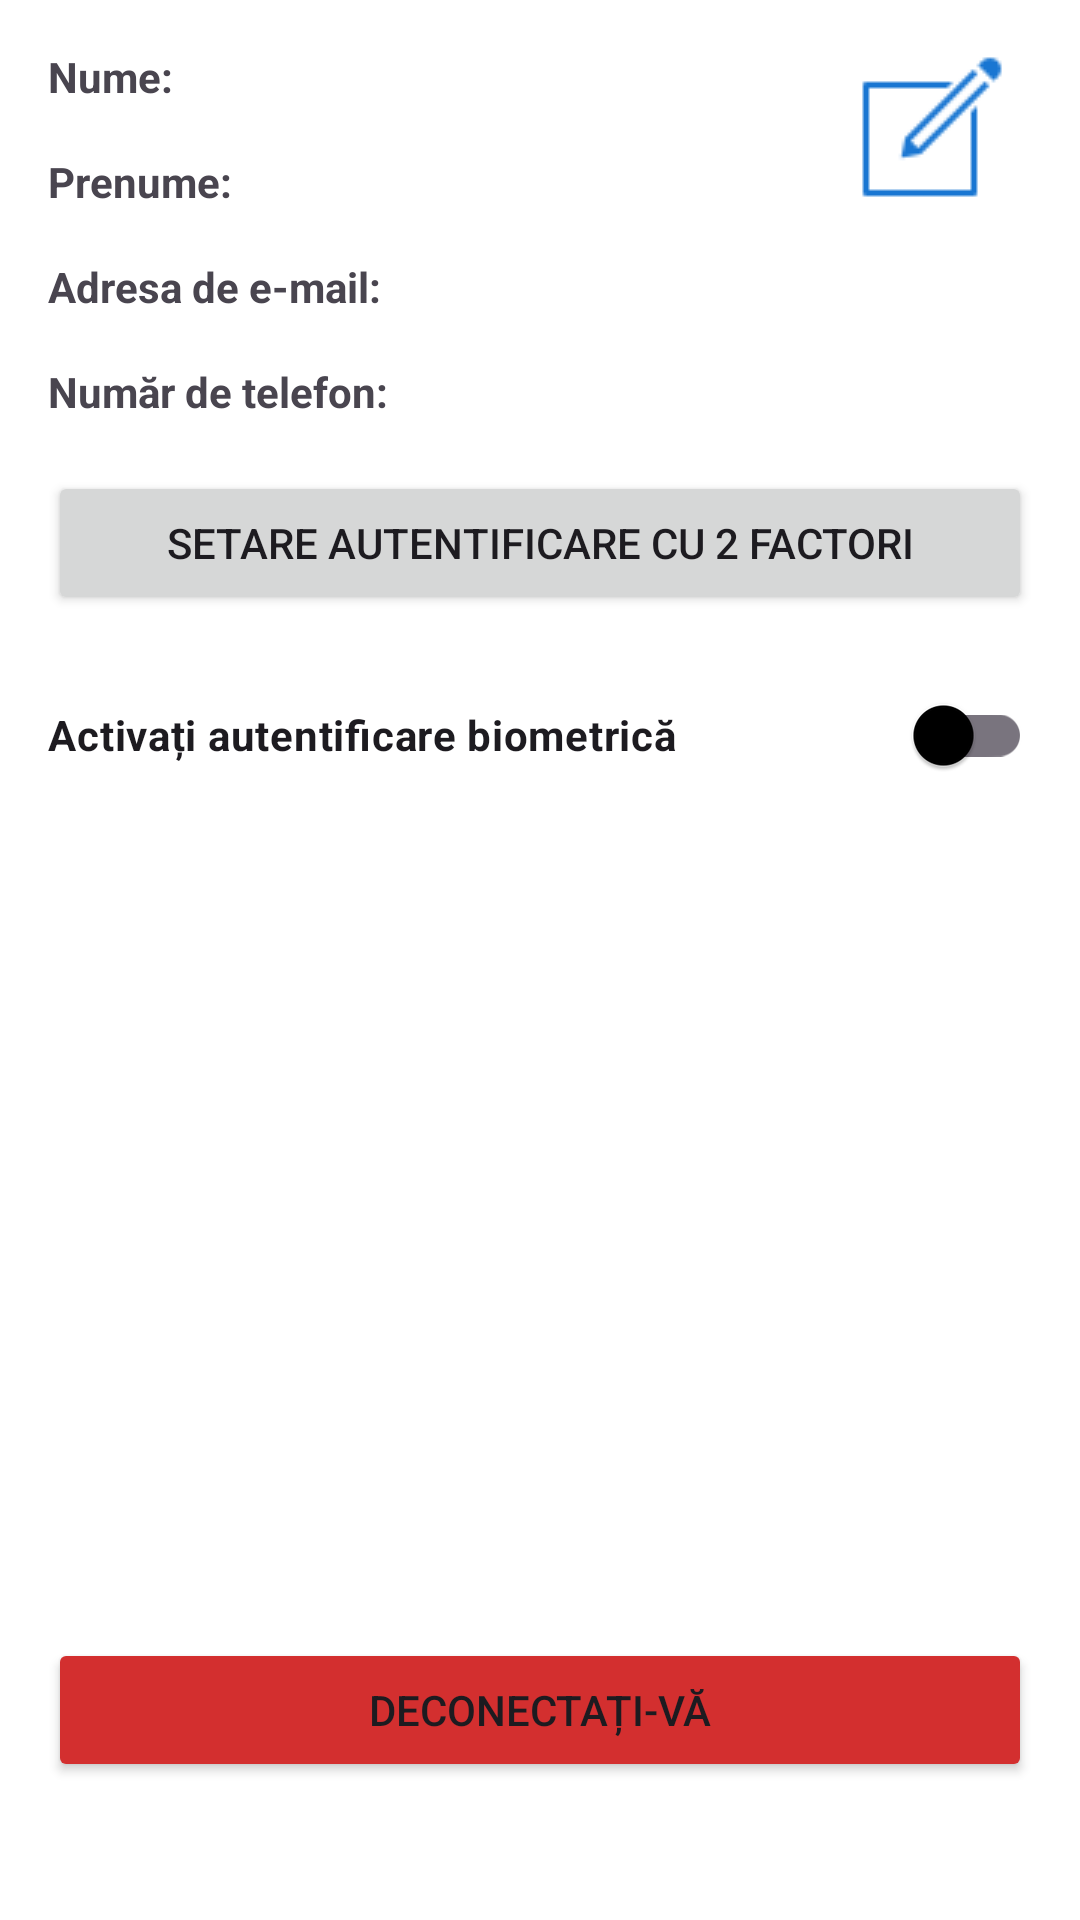

Named icons in this screenshot (1080 × 1920) and their centers, (x,y):
Edit Name: (932,127)
